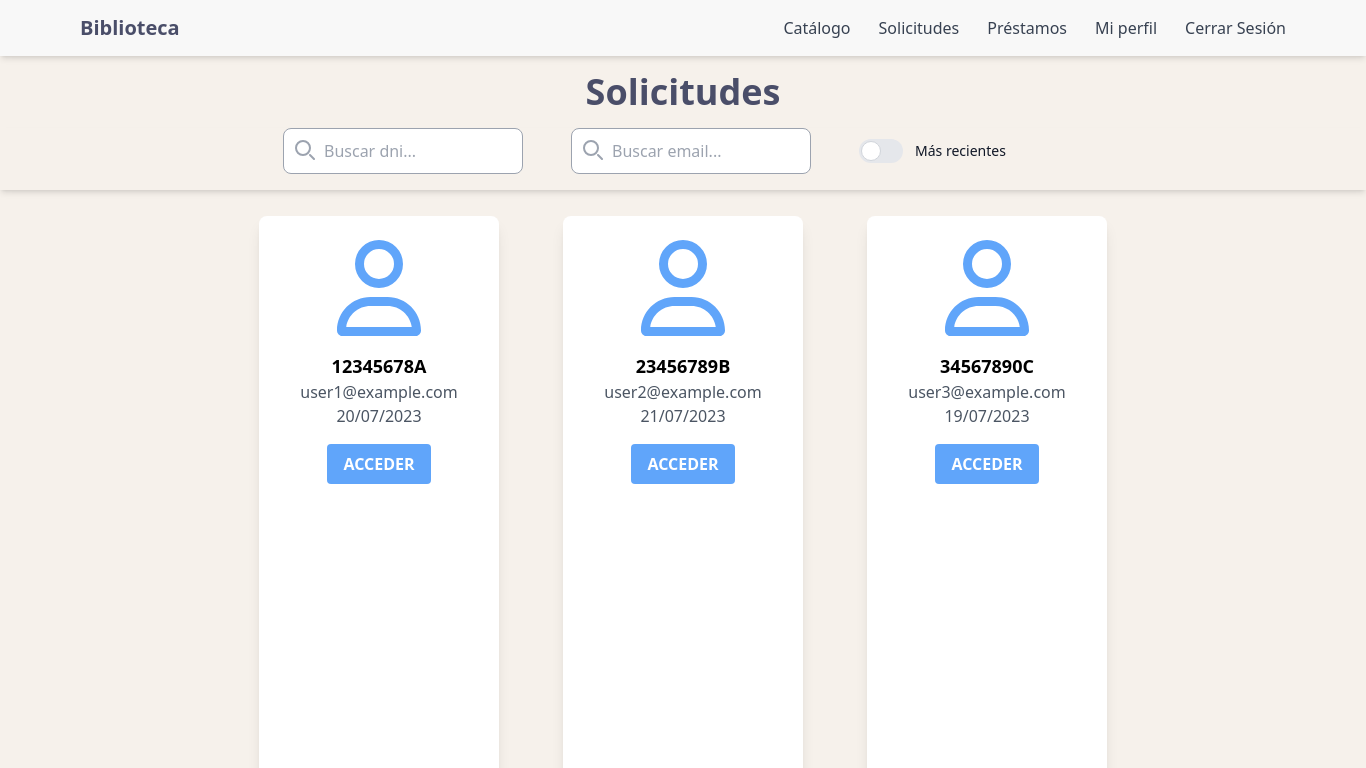
Test: filters users by email
Expected: the text "user1@example.com" is shown, [300,380,458,404]
Expected: the text "user2@example.com" is shown, [604,380,762,404]
Type "user1@example.com" into the field with placeholder "Buscar email..." at (691, 151), box [571,128,811,174]
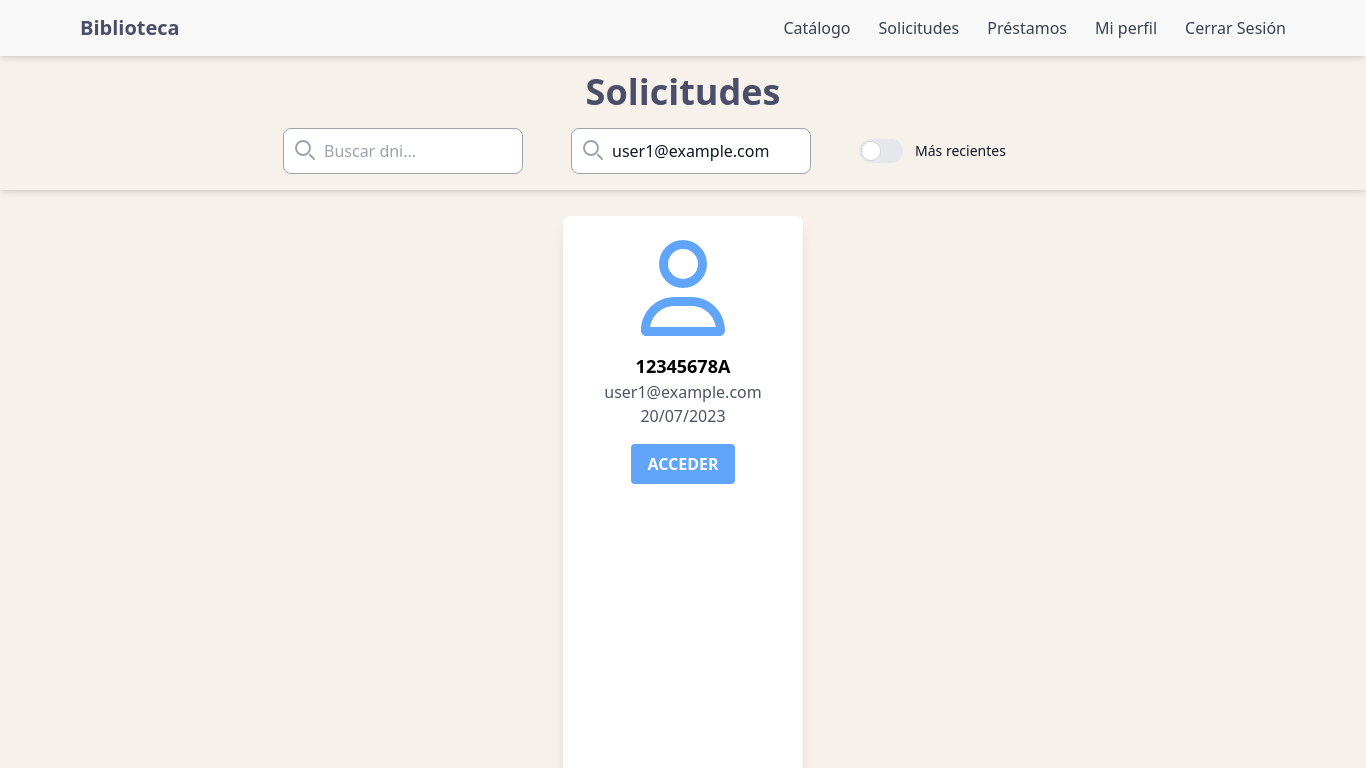
Expected: the text "user1@example.com" is shown, [604,380,762,404]
Expected: the text "user2@example.com" is gone
Expected: the text "user3@example.com" is gone
